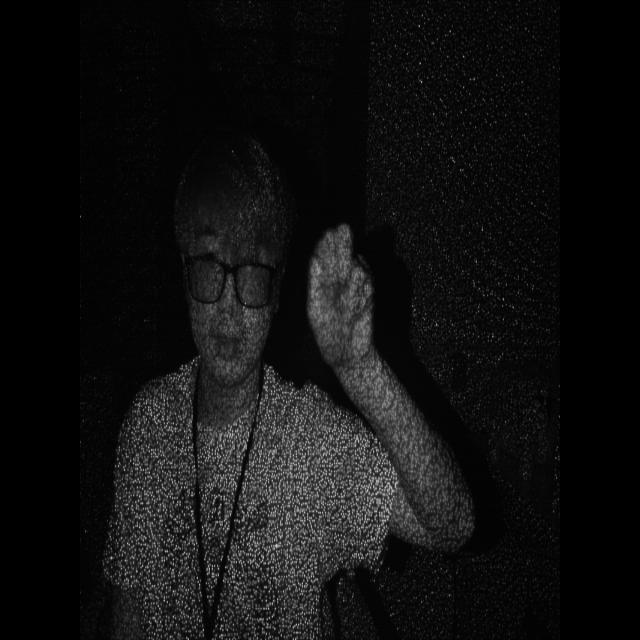N: (302, 204, 388, 395)
